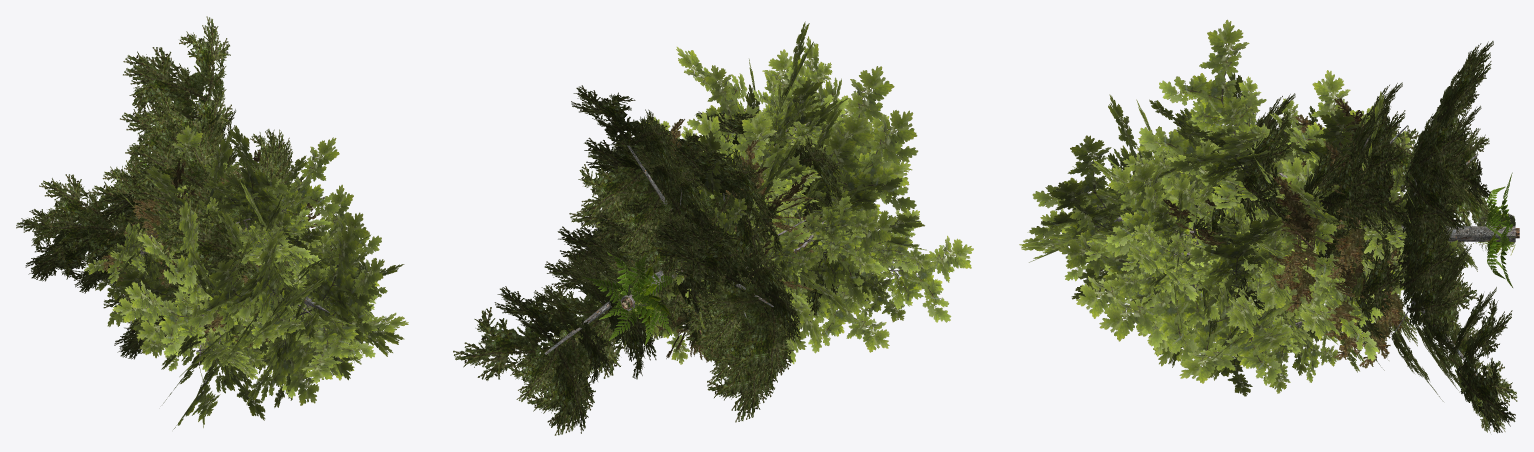
File: low-poly-vegetation-for-games-cdac82.glb
The picture shows the model from 3 angles, left to right: view 1: azimuth 30°, elevation 25°; view 2: azimuth 150°, elevation 25°; view 3: azimuth 270°, elevation 25°; orthographic projection. The views are drawn at different scales.
Visible parts, largest first — view 1: PropMesh; view 2: PropMesh; view 3: PropMesh.
Boxes of the visible parts, x1,y1,x2,y2 form: PropMesh: (16,16,408,429); PropMesh: (453,21,973,435); PropMesh: (1019,19,1519,433).
Size of the model in its own units: 2.21 by 2.2 by 2.79.
17 materials, 17 textured.
